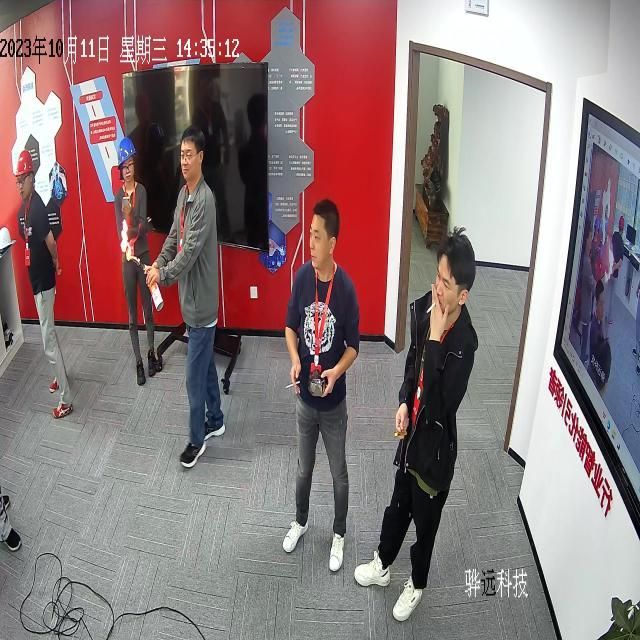Fire: (120, 219, 140, 265)
